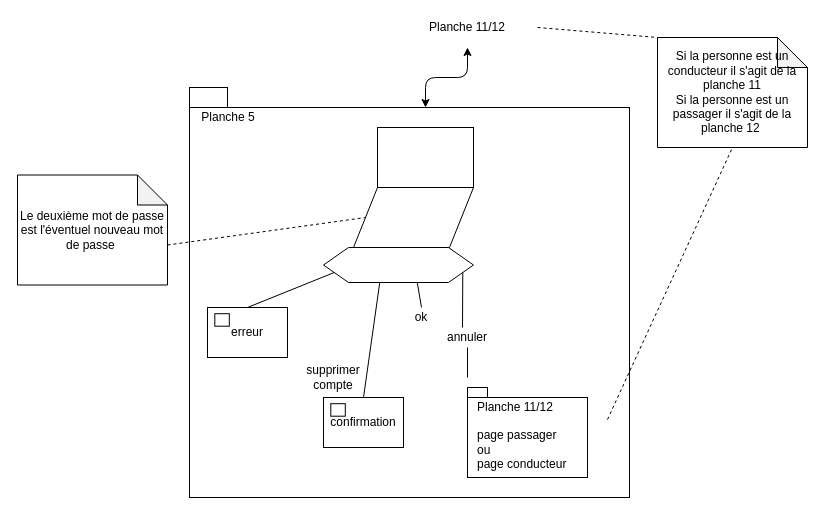
Image size: 825x515. Some labels were removed from this diagram. Each missing label, with the centre of its shape:
"Personne (nom, prenom)" goes at pixel 425 157.
"Personne (nom, prenom, email, motDePasse, motDePasse)" goes at pixel 413 217.
